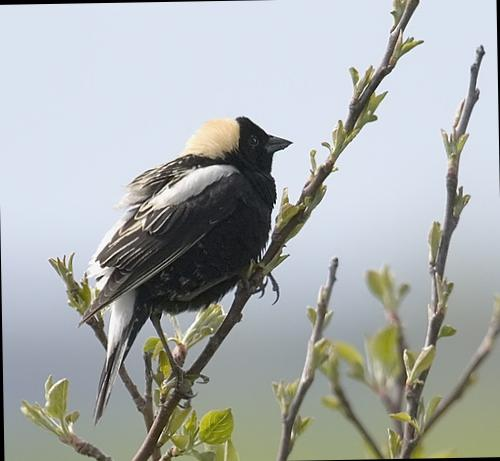bird: (74, 99, 302, 427)
